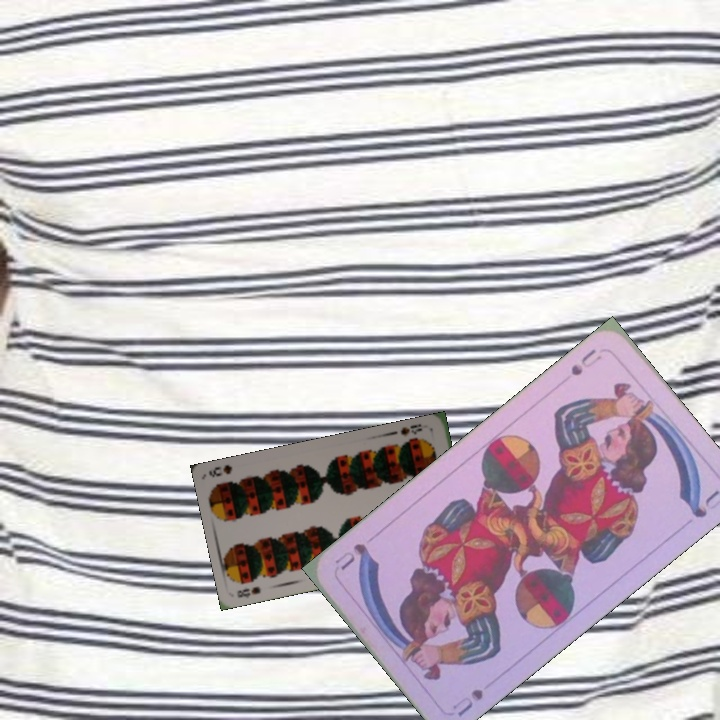S8: (232, 582, 263, 600), (397, 420, 425, 438)
SU: (448, 684, 486, 719), (566, 345, 605, 379)
